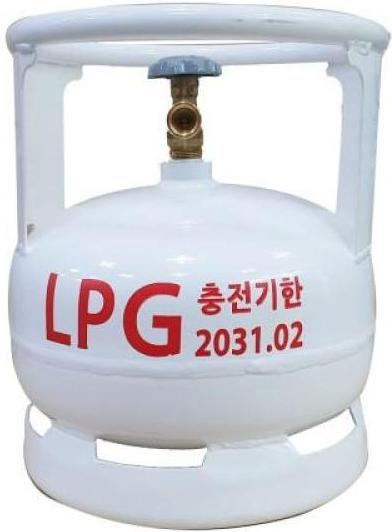cylinder: (1, 0, 392, 532)
